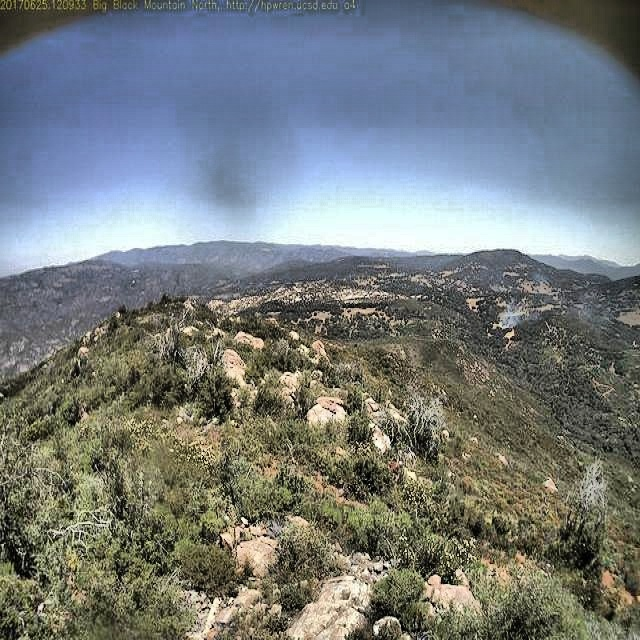smoke: (490, 286, 540, 334)
